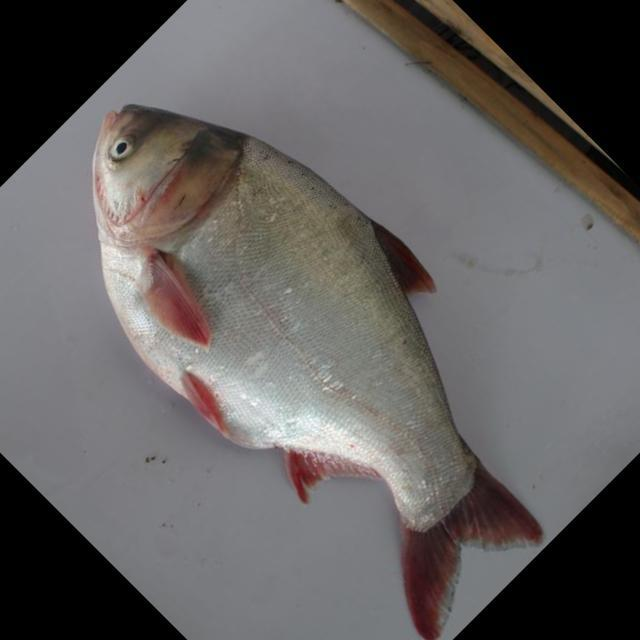SilverCarp: (85, 107, 545, 626)
